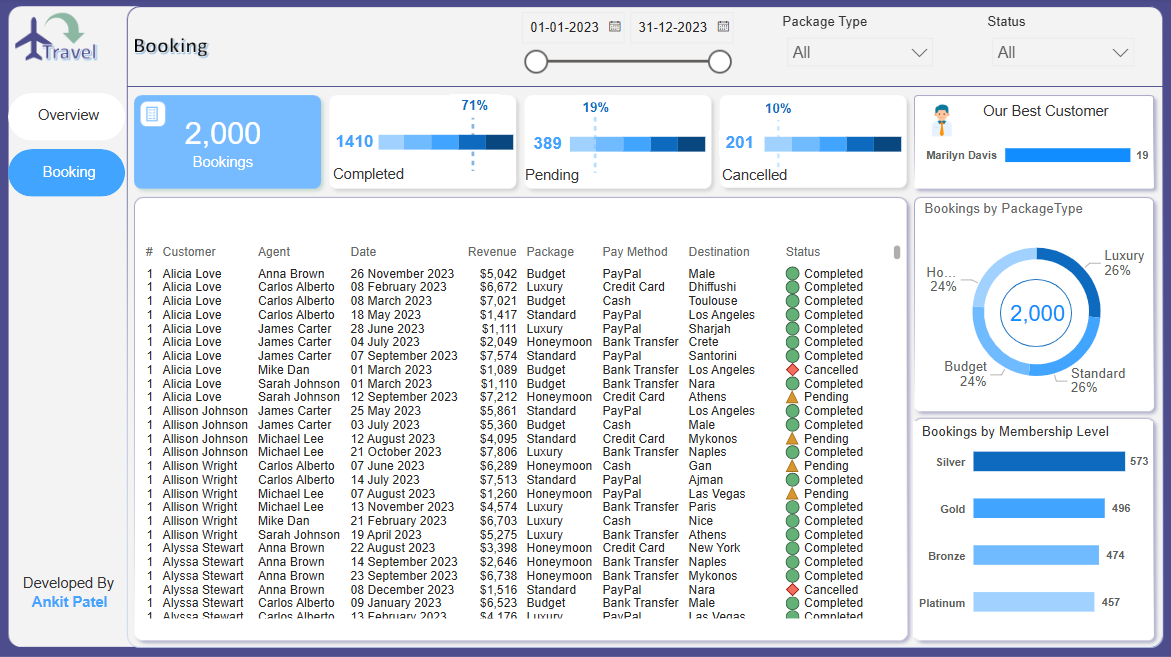

The page's visual inventory and layout, read from the dashboard file:
{"tool":"powerbi","page":{"name":"Booking","canvas":[1280,720],"ordinal":1},"visuals":[{"type":"slicer","fields":{"Values":["Calendar Table.Date"]},"box":[558.7,4.4,249.9,82.9],"z":0},{"type":"slicer","title":"Package Type","fields":{"Values":["Bookings.PackageType"]},"box":[851.2,16.4,179,66.6],"z":1},{"type":"slicer","title":"Status","fields":{"Values":["Bookings.PackageType","Bookings.Status"]},"box":[1074.9,16.4,174.6,66.6],"z":2},{"type":"card","fields":{"Values":["Measures Table.Bookings"]},"box":[162.6,103.2,165.2,100.6],"z":3},{"type":"barChart","fields":{"Y":["Gauge Chart.GC1","Gauge Chart.GC2","Gauge Chart.GC3","Gauge Chart.GC4","Gauge Chart.GC5"]},"box":[363.9,113.5,203.9,78.7],"z":4},{"type":"card","fields":{"Values":["Measures Table.Conversion Rate"]},"box":[493.2,103.7,54.6,26.2],"z":5},{"type":"actionButton","title":"Completed","box":[365.6,182.2,136.4,20.7],"z":6},{"type":"barChart","fields":{"Y":["Gauge Chart.GC1","Gauge Chart.GC2","Gauge Chart.GC3","Gauge Chart.GC4","Gauge Chart.GC5"]},"box":[572.9,116.1,203.9,78.7],"z":7},{"type":"barChart","fields":{"Y":["Gauge Chart.GC1","Gauge Chart.GC2","Gauge Chart.GC3","Gauge Chart.GC4","Gauge Chart.GC5"]},"box":[787.1,116.1,203.9,78.7],"z":8},{"type":"card","fields":{"Values":["Measures Table.Pending Rate"]},"box":[628.5,104.8,48,24],"z":10},{"type":"actionButton","title":"Pending","box":[575.1,183.3,135.3,20.7],"z":11},{"type":"card","fields":{"Values":["Measures Table.Cancelled Rate"]},"box":[827.1,106.9,49.1,25.1],"z":12},{"type":"actionButton","title":"Cancelled","box":[790,183.3,135.3,20.7],"z":13},{"type":"card","fields":{"Values":["Measures Table.Booking - Cancelled"]},"box":[787.1,143.2,45.2,28.4],"z":14},{"type":"card","fields":{"Values":["Measures Table.Booking - Completed"]},"box":[362.6,139.4,52.9,33.5],"z":15},{"type":"card","fields":{"Values":["Measures Table.Booking - Pending"]},"box":[575.5,144.5,49,25.8],"z":16},{"type":"barChart","fields":{"Category":["Customers.FullName"],"Y":["Measures Table.Bookings"]},"box":[1006.1,128.8,254.3,75.3],"z":17},{"type":"actionButton","title":"Our Best Customer","box":[1074.8,113.5,154.8,20.6],"z":18},{"type":"image","box":[998.7,108.4,63.2,49],"z":19},{"type":"donutChart","fields":{"Category":["Bookings.PackageType"],"Y":["Measures Table.Bookings"]},"box":[1006.1,220.4,254.3,225.9],"z":20},{"type":"shape","box":[1095.1,300.5,78.6,74.2],"z":21},{"type":"card","fields":{"Values":["Measures Table.Bookings"]},"box":[1092.9,322.6,82.6,32.3],"z":23},{"type":"barChart","fields":{"Category":["Customers.MembershipLevel"],"Y":["Measures Table.Bookings"]},"box":[998.7,460.6,261.9,236.1],"z":24},{"type":"actionButton","title":"Bookings by Membership Level","box":[1007.7,463.2,221.9,20.6],"z":25},{"type":"tableEx","fields":{"Values":["Customers.Country","Measures Table.Revenue","SparklineData(Measures Table.Revenue_[Calendar Table.Month no])","Measures Table.Revenue 2"]},"box":[384.1,492.1,288.1,188.8],"z":26}]}

Visuals, with their boxes in screenshot pixels (x1, y1, x2, y2), scaled from the page's 1280x720 canvas onto the 1171x657 screenshot:
slicer - Calendar Table.Date: locate(511, 4, 740, 80)
"Package Type" slicer: locate(779, 15, 942, 76)
"Status" slicer: locate(983, 15, 1143, 76)
card - Measures Table.Bookings: locate(149, 94, 300, 186)
barChart - Gauge Chart.GC1 x Gauge Chart.GC2: locate(333, 104, 519, 175)
card - Measures Table.Conversion Rate: locate(451, 95, 501, 119)
"Completed" actionButton: locate(334, 166, 459, 185)
barChart - Gauge Chart.GC1 x Gauge Chart.GC2: locate(524, 106, 711, 178)
barChart - Gauge Chart.GC1 x Gauge Chart.GC2: locate(720, 106, 907, 178)
card - Measures Table.Pending Rate: locate(575, 96, 619, 118)
"Pending" actionButton: locate(526, 167, 650, 186)
card - Measures Table.Cancelled Rate: locate(757, 98, 802, 120)
"Cancelled" actionButton: locate(723, 167, 847, 186)
card - Measures Table.Booking - Cancelled: locate(720, 131, 761, 157)
card - Measures Table.Booking - Completed: locate(332, 127, 380, 158)
card - Measures Table.Booking - Pending: locate(526, 132, 571, 155)
barChart - Customers.FullName x Measures Table.Bookings: locate(920, 118, 1153, 186)
"Our Best Customer" actionButton: locate(983, 104, 1125, 122)
image: locate(914, 99, 971, 144)
donutChart - Bookings.PackageType x Measures Table.Bookings: locate(920, 201, 1153, 407)
shape: locate(1002, 274, 1074, 342)
card - Measures Table.Bookings: locate(1000, 294, 1075, 324)
barChart - Customers.MembershipLevel x Measures Table.Bookings: locate(914, 420, 1153, 636)
"Bookings by Membership Level" actionButton: locate(922, 423, 1125, 441)
tableEx - Customers.Country x Measures Table.Revenue: locate(351, 449, 615, 621)
